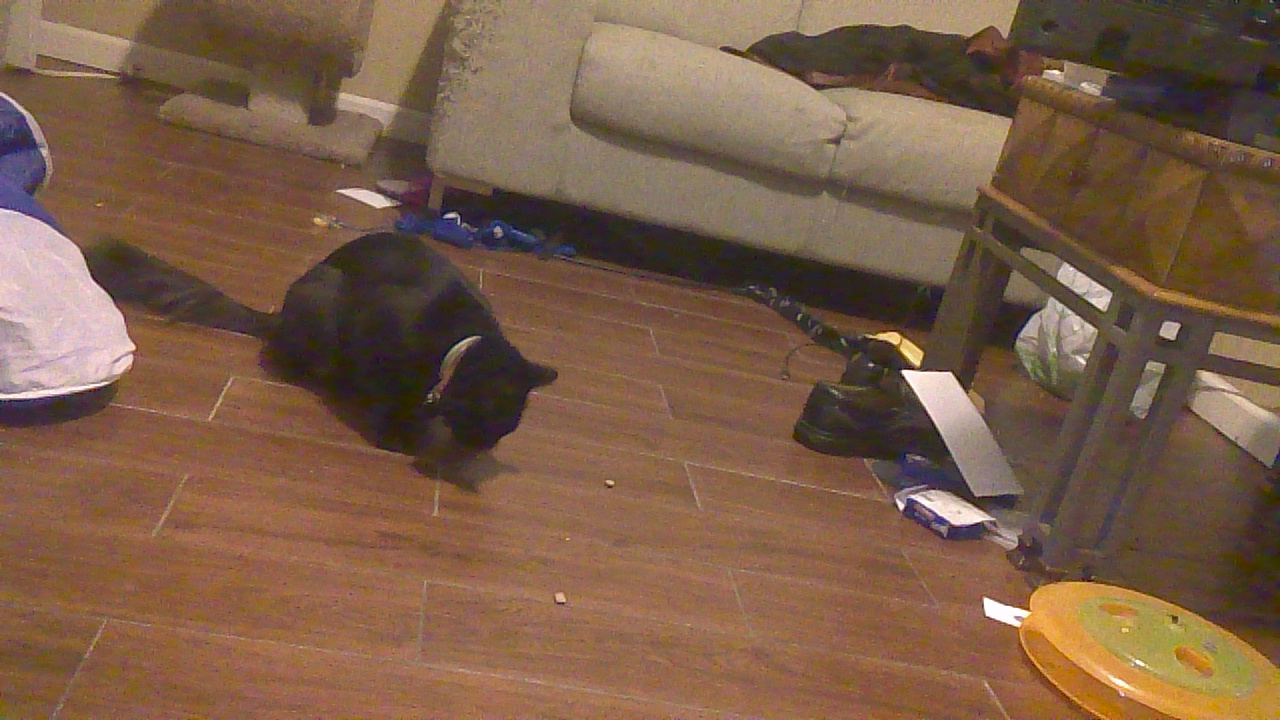cat: (82, 222, 558, 486)
